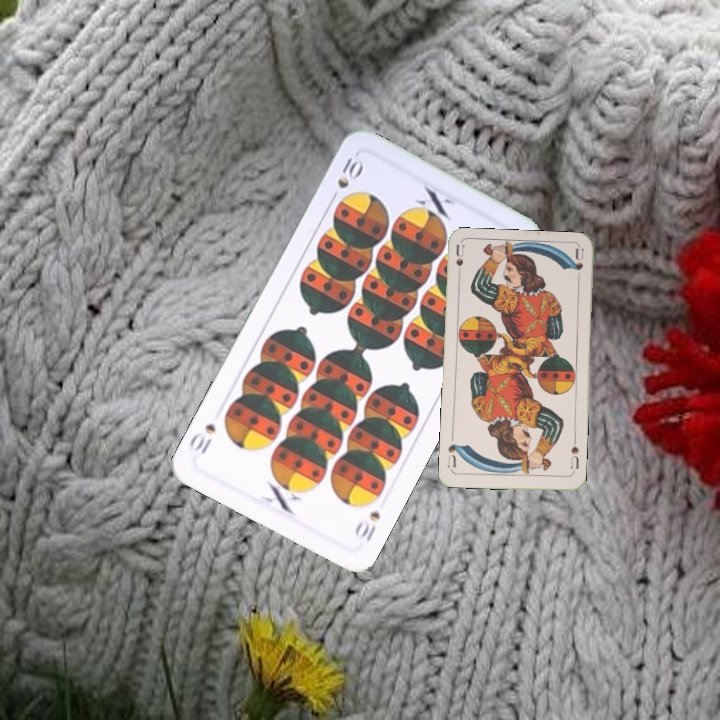S10: (350, 505, 383, 545), (333, 153, 366, 192)
SU: (566, 435, 581, 476), (452, 242, 467, 283)
